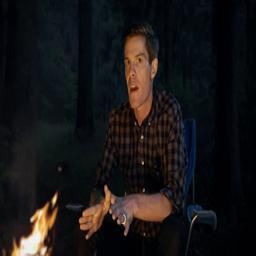fire: (9, 193, 60, 256)
